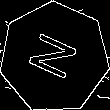N_SE: (24, 29, 85, 86)
